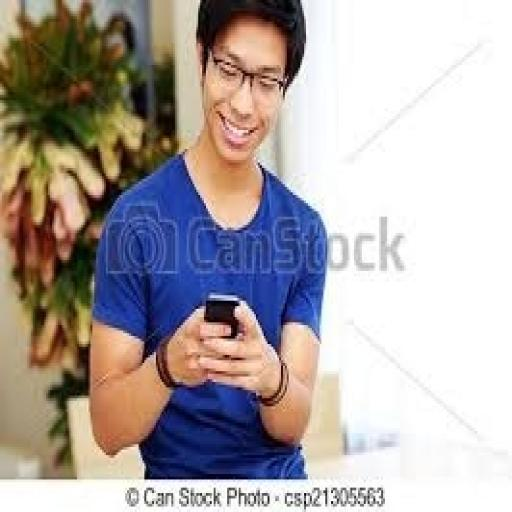texting: (84, 0, 329, 479)
